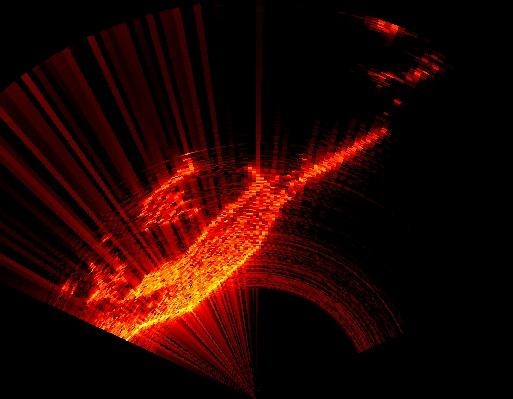shipwreck: (87, 126, 387, 339), (141, 159, 198, 227)
